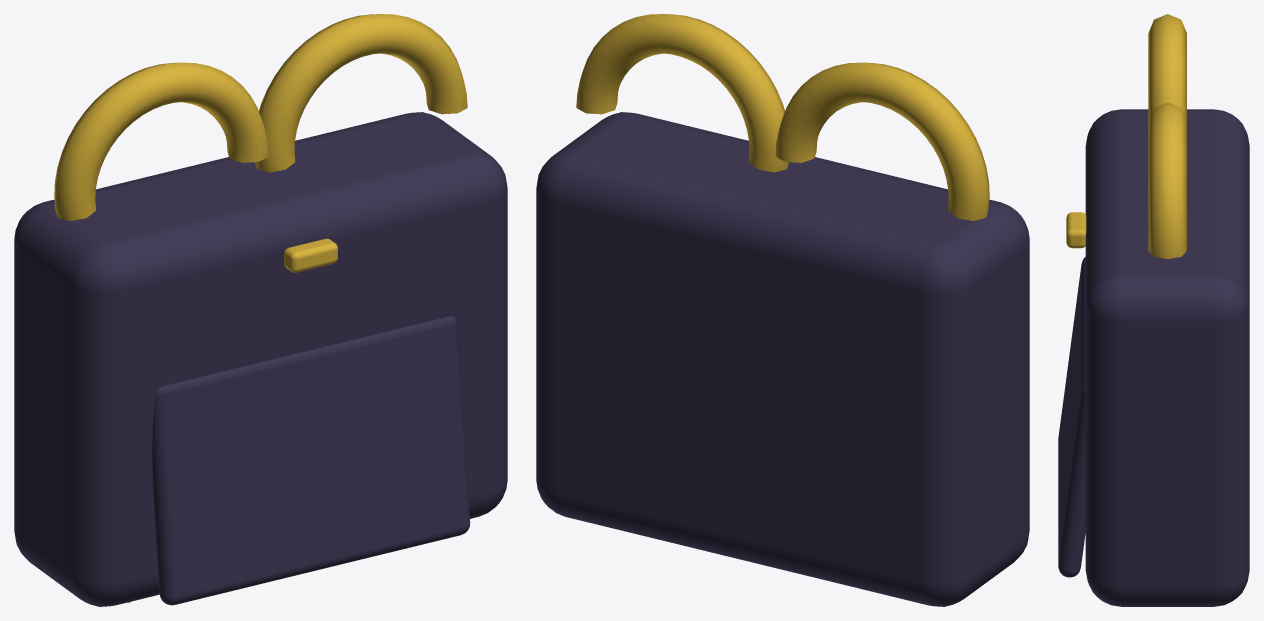
The model's file is fashion-bag.glb.
The picture shows the model from 3 angles, left to right: view 1: azimuth 30°, elevation 25°; view 2: azimuth 150°, elevation 25°; view 3: azimuth 270°, elevation 25°; orthographic projection. The views are drawn at different scales.
Size of the model in its own units: 2 by 2.25 by 0.8405.
